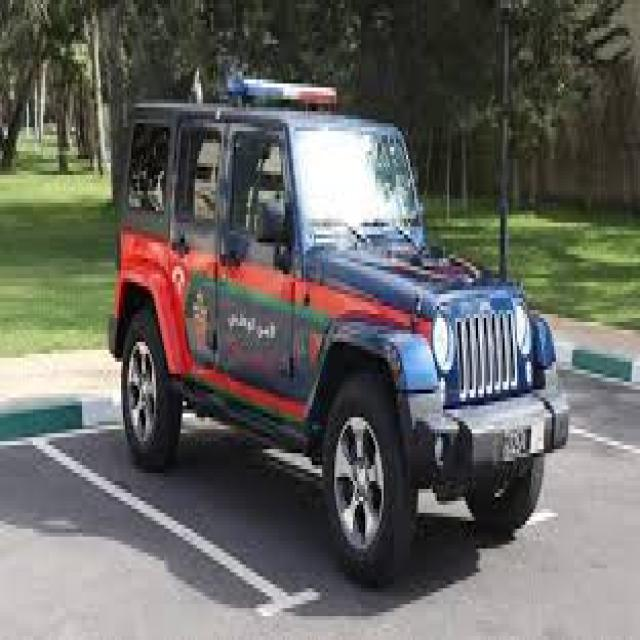Police car: (108, 70, 577, 593)
